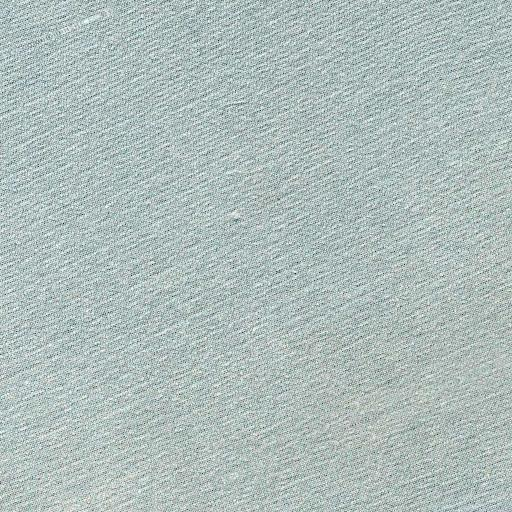knot: (223, 201, 250, 228)
